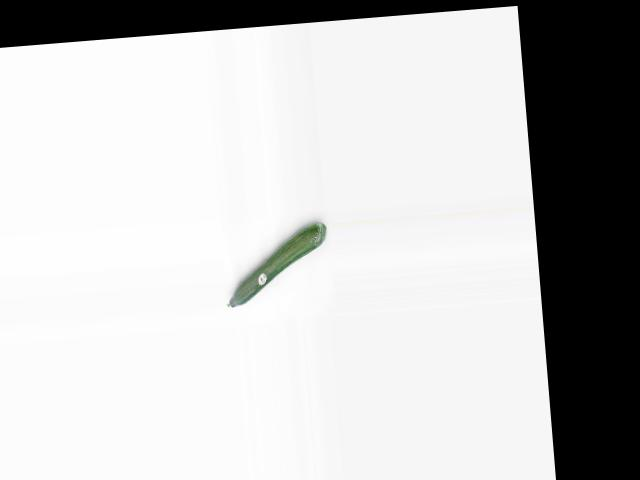cucumber: (220, 222, 331, 307)
